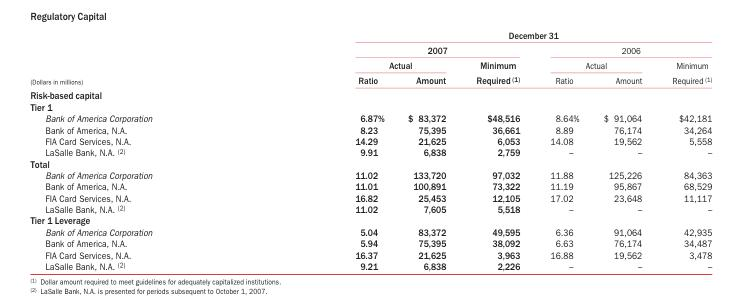table: (29, 29, 711, 271)
table column: (29, 29, 252, 271), (252, 29, 395, 271), (460, 29, 534, 271), (590, 29, 656, 271), (395, 29, 460, 271), (534, 29, 590, 271), (656, 29, 711, 271)
table column header: (29, 29, 711, 87)
table projected row header: (29, 87, 711, 100), (29, 100, 711, 112), (29, 157, 711, 169), (29, 214, 711, 226)
table row: (29, 42, 711, 57), (29, 57, 711, 72), (29, 72, 711, 87), (29, 29, 711, 42), (29, 87, 711, 100), (29, 100, 711, 112), (29, 123, 711, 135), (29, 157, 711, 169), (29, 191, 711, 203), (29, 214, 711, 226), (29, 248, 711, 260), (29, 112, 711, 123), (29, 135, 711, 146), (29, 146, 711, 157), (29, 169, 711, 180), (29, 180, 711, 191), (29, 203, 711, 214), (29, 226, 711, 237), (29, 237, 711, 248), (29, 260, 711, 271)
table spanning cell: (29, 29, 252, 87), (252, 29, 711, 42), (252, 42, 534, 57), (252, 57, 460, 72), (534, 42, 711, 57), (460, 57, 534, 87), (534, 57, 656, 72), (656, 57, 711, 87)
